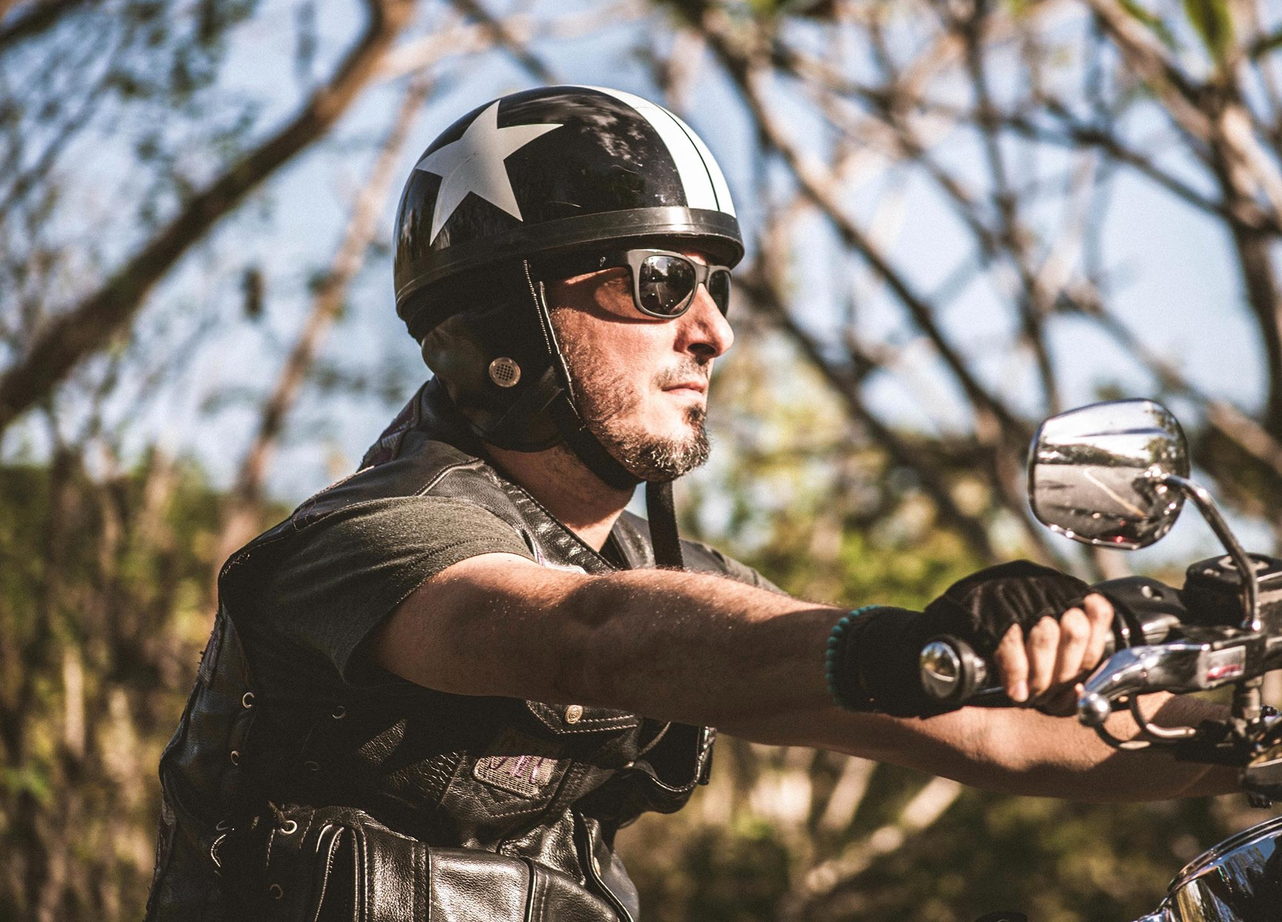helmet: (391, 82, 746, 493)
